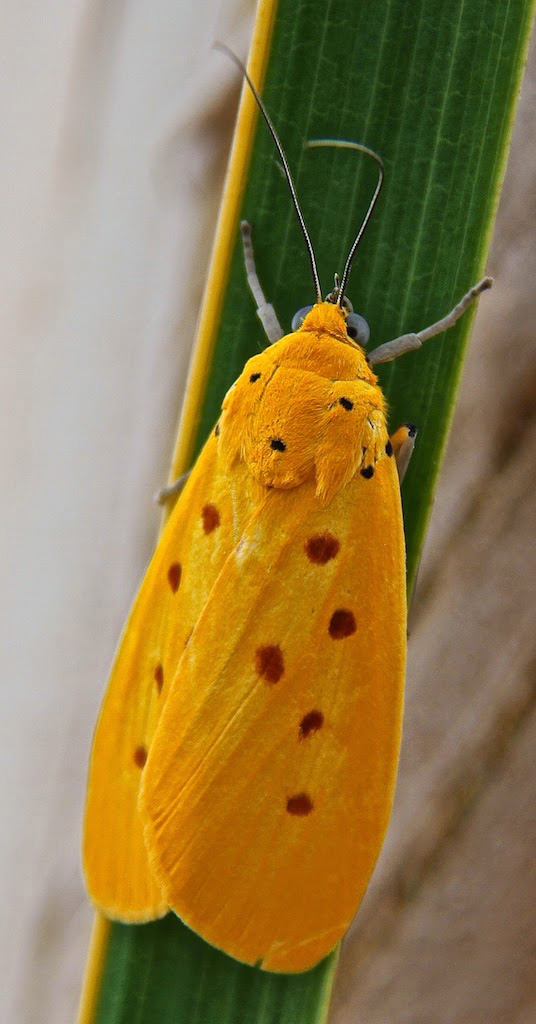Agape chloropyga: (74, 35, 496, 980)
moth: (76, 37, 498, 982)
